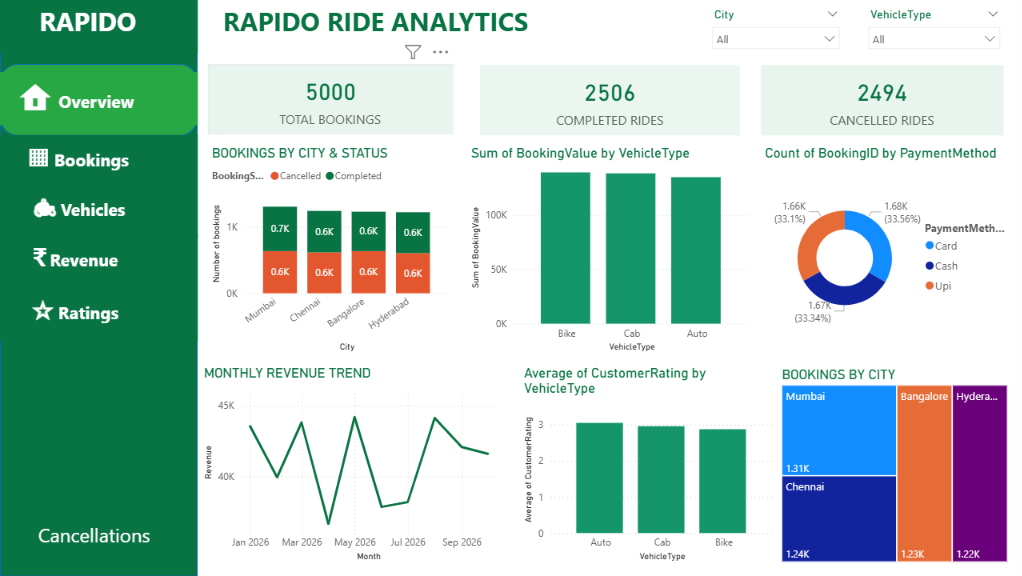

This screenshot's page, from the dashboard's own definition file:
{"tool":"powerbi","page":{"name":"RAPIDO OVERVIEW","canvas":[1280,720],"ordinal":0},"visuals":[{"type":"shape","box":[0,0,247.1,720.6],"z":0},{"type":"textbox","box":[0,0,247.1,66.2],"z":1000},{"type":"shape","box":[0,79.4,247.1,89.7],"z":2000},{"type":"textbox","box":[0,89.7,247.1,66.2],"z":3000},{"type":"textbox","box":[0,169.1,247.1,61.8],"z":4000},{"type":"textbox","box":[0,230.9,247.1,66.2],"z":5000},{"type":"textbox","box":[0,294.1,247.1,66.2],"z":6000},{"type":"textbox","box":[0,360.3,247.1,66.2],"z":7000},{"type":"textbox","box":[273.5,0,585.3,66.2],"z":8000},{"type":"card","fields":{"Values":["CountNonNull(rapido_ride_db bookings.BookingID)"]},"box":[260.3,79.4,305.9,88.2],"z":9000},{"type":"card","fields":{"Values":["CountNonNull(rapido_ride_db bookings.BookingID)"]},"box":[600,80.9,325,88.2],"z":10000},{"type":"card","fields":{"Values":["CountNonNull(rapido_ride_db bookings.BookingID)"]},"box":[951.5,80.9,302.9,88.2],"z":11000},{"type":"columnChart","title":"BOOKINGS BY CITY & STATUS","fields":{"Category":["rapido_ride_db bookings.City"],"Y":["CountNonNull(rapido_ride_db bookings.BookingID)"],"Series":["rapido_ride_db bookings.BookingStatus"]},"box":[260,181.7,306.7,263.3],"z":12000},{"type":"clusteredColumnChart","fields":{"Category":["rapido_ride_db bookings.VehicleType"],"Y":["Sum(rapido_ride_db bookings.BookingValue)"]},"box":[583.3,181.7,358.3,263.3],"z":13000},{"type":"donutChart","fields":{"Category":["rapido_ride_db bookings.PaymentMethod"],"Y":["CountNonNull(rapido_ride_db bookings.BookingID)"]},"box":[951.7,181.7,311.7,263.3],"z":14000},{"type":"lineChart","title":"MONTHLY REVENUE TREND","fields":{"Y":["Sum(rapido_ride_db bookings.BookingValue)"],"Category":["rapido_ride_db bookings.Date.Variation.Date Hierarchy.Year","rapido_ride_db bookings.Date.Variation.Date Hierarchy.Month"]},"box":[250.2,456.5,390,250.2],"z":15000},{"type":"clusteredColumnChart","fields":{"Category":["rapido_ride_db bookings.VehicleType"],"Y":["Avg(rapido_ride_db bookings.CustomerRating)"]},"box":[650,456.7,321.7,250],"z":16000},{"type":"treemap","title":"BOOKINGS BY CITY","fields":{"Group":["rapido_ride_db bookings.City"],"Values":["CountNonNull(rapido_ride_db bookings.BookingID)"]},"box":[972,457,292,250],"z":17000},{"type":"slicer","fields":{"Values":["rapido_ride_db bookings.City"]},"box":[879.6,5.5,179.8,75.5],"z":18000},{"type":"slicer","fields":{"Values":["rapido_ride_db bookings.VehicleType"]},"box":[1074.4,5.5,185.2,75.5],"z":19000},{"type":"actionButton","box":[21.7,628.3,193.3,78.3],"z":20000}]}

Visuals, with their boxes on the page's 1280x720 design canvas (x1, y1, x2, y2). These are canvas units, not pixel positions in the 1022x576 screenshot, which may show the page scaled, cropped or inside an application window:
shape: {"left": 0, "top": 0, "right": 247, "bottom": 721}
textbox: {"left": 0, "top": 0, "right": 247, "bottom": 66}
shape: {"left": 0, "top": 79, "right": 247, "bottom": 169}
textbox: {"left": 0, "top": 90, "right": 247, "bottom": 156}
textbox: {"left": 0, "top": 169, "right": 247, "bottom": 231}
textbox: {"left": 0, "top": 231, "right": 247, "bottom": 297}
textbox: {"left": 0, "top": 294, "right": 247, "bottom": 360}
textbox: {"left": 0, "top": 360, "right": 247, "bottom": 426}
textbox: {"left": 274, "top": 0, "right": 859, "bottom": 66}
card - CountNonNull(rapido_ride_db bookings.BookingID): {"left": 260, "top": 79, "right": 566, "bottom": 168}
card - CountNonNull(rapido_ride_db bookings.BookingID): {"left": 600, "top": 81, "right": 925, "bottom": 169}
card - CountNonNull(rapido_ride_db bookings.BookingID): {"left": 952, "top": 81, "right": 1254, "bottom": 169}
"BOOKINGS BY CITY & STATUS" columnChart: {"left": 260, "top": 182, "right": 567, "bottom": 445}
clusteredColumnChart - rapido_ride_db bookings.VehicleType x Sum(rapido_ride_db bookings.BookingValue): {"left": 583, "top": 182, "right": 942, "bottom": 445}
donutChart - rapido_ride_db bookings.PaymentMethod x CountNonNull(rapido_ride_db bookings.BookingID): {"left": 952, "top": 182, "right": 1263, "bottom": 445}
"MONTHLY REVENUE TREND" lineChart: {"left": 250, "top": 456, "right": 640, "bottom": 707}
clusteredColumnChart - rapido_ride_db bookings.VehicleType x Avg(rapido_ride_db bookings.CustomerRating): {"left": 650, "top": 457, "right": 972, "bottom": 707}
"BOOKINGS BY CITY" treemap: {"left": 972, "top": 457, "right": 1264, "bottom": 707}
slicer - rapido_ride_db bookings.City: {"left": 880, "top": 6, "right": 1059, "bottom": 81}
slicer - rapido_ride_db bookings.VehicleType: {"left": 1074, "top": 6, "right": 1260, "bottom": 81}
actionButton: {"left": 22, "top": 628, "right": 215, "bottom": 707}
